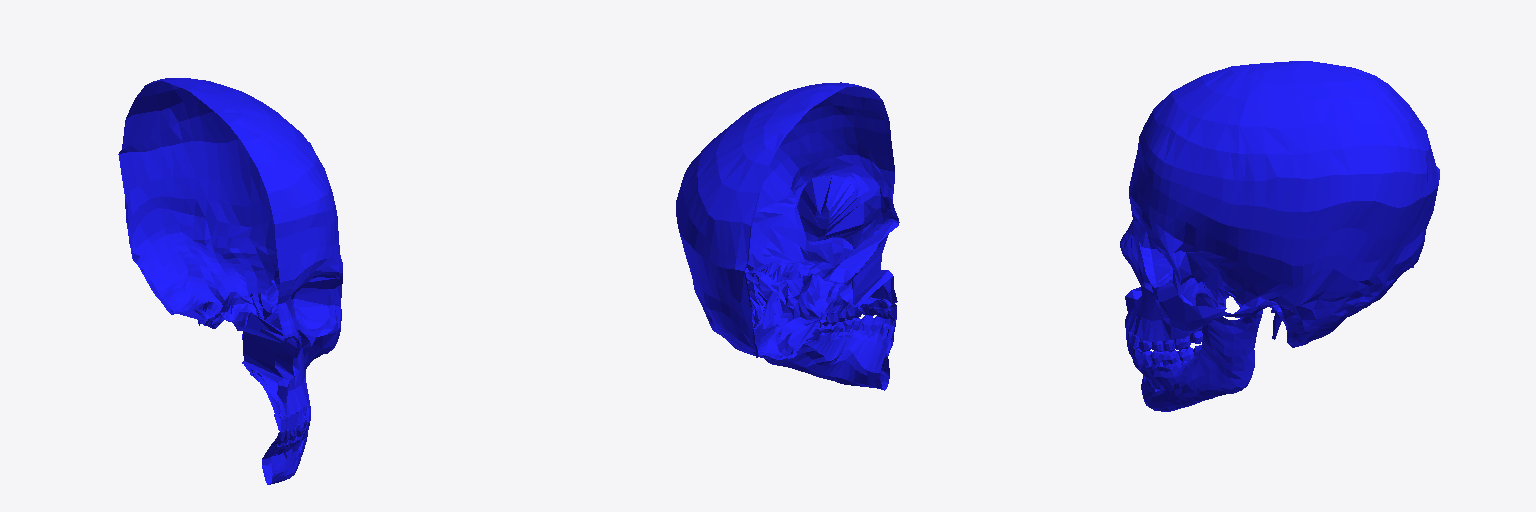
Rendered from skull.obj.
3 renders of one model, left to right at view 1: azimuth 30°, elevation 25°; view 2: azimuth 150°, elevation 25°; view 3: azimuth 270°, elevation 25°, orthographic.
Visible parts, largest first — view 1: skull.001; view 2: skull.001; view 3: skull.001.
Part boxes in pixels (left/top/right/bottom): skull.001: left=118, top=78, right=342, bottom=484; skull.001: left=676, top=82, right=899, bottom=390; skull.001: left=1120, top=61, right=1439, bottom=411.
Size of the model in its own units: 2.6 by 7.32 by 6.29.